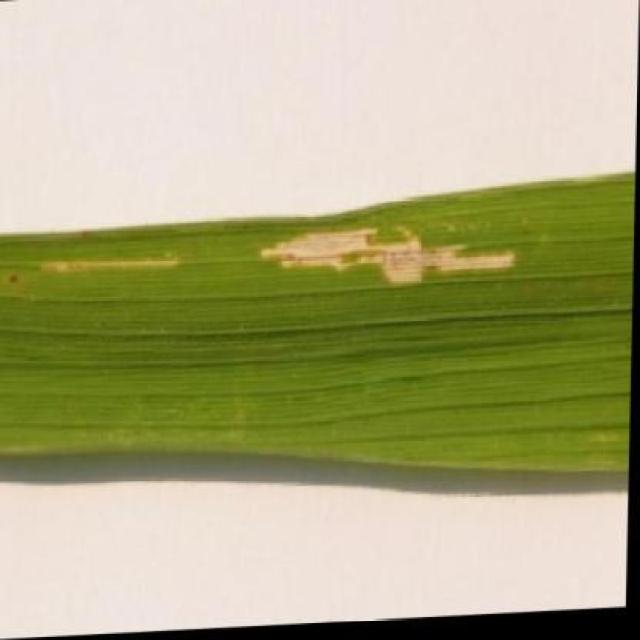Brown_Spot: (0, 170, 637, 502)
